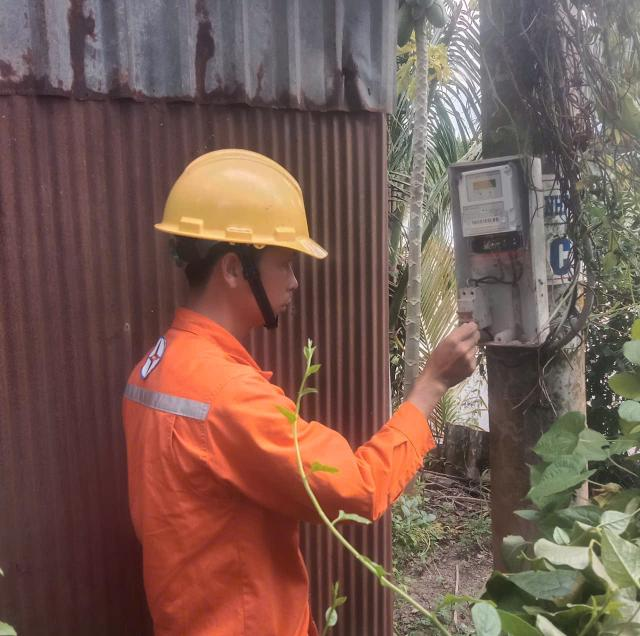helmet: (138, 128, 336, 275)
